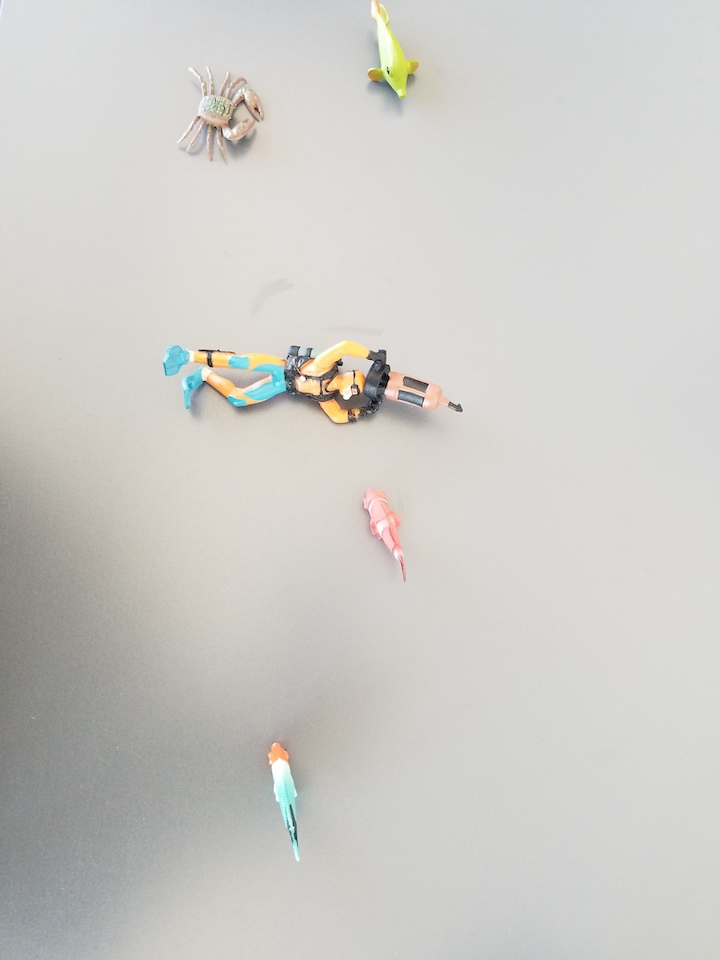crab: (177, 64, 267, 163)
diver: (161, 339, 465, 435)
fish: (357, 480, 413, 584), (365, 1, 421, 104), (264, 737, 308, 866)
